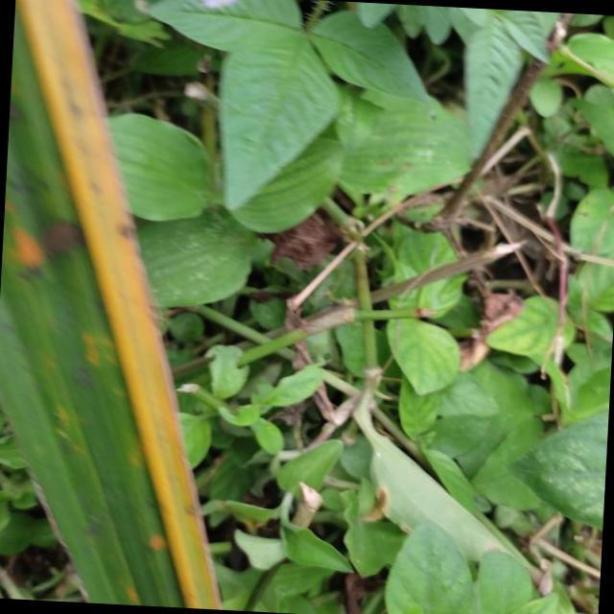Megnesium: (0, 1, 225, 614)
